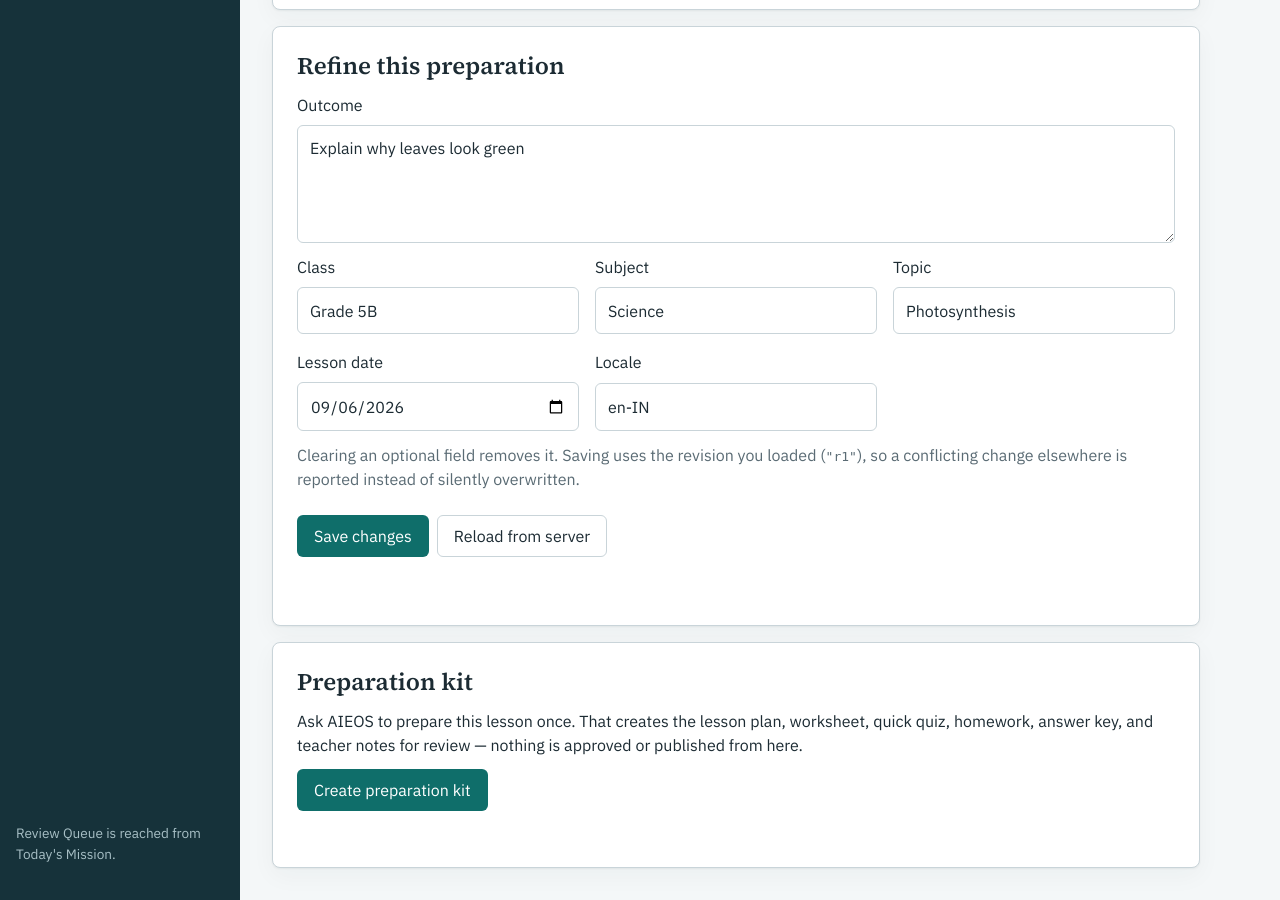
Test: TOS-DEV04-I09 Work preparation kit › reports work_generation_in_progress truthfully without a second request
(page scrolled)
Click the button "Create preparation kit": (392, 790) left=297, top=769, right=488, bottom=811
(page scrolled)
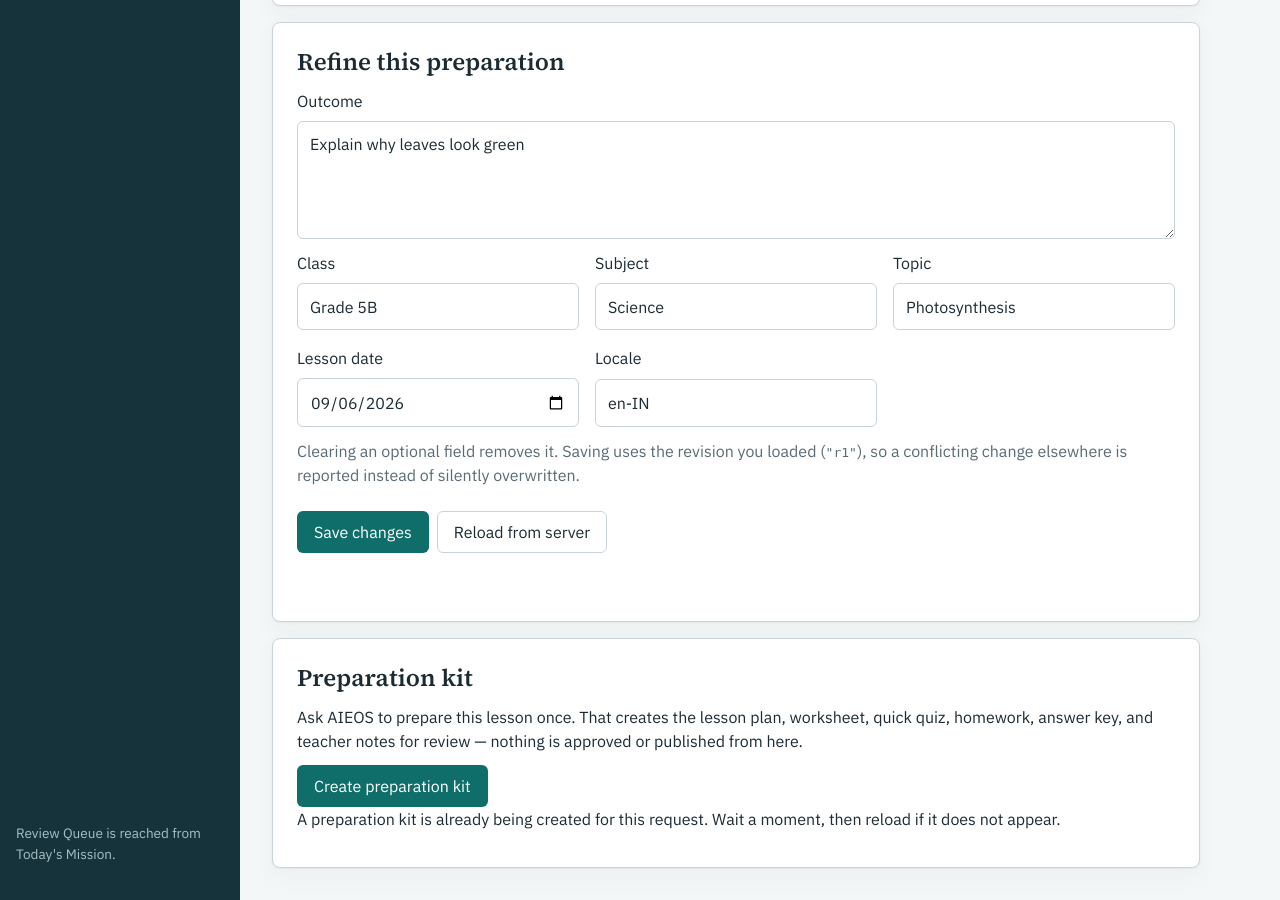
Expected: the text "already being created for this request" is shown, left=297, top=809, right=1060, bottom=829
